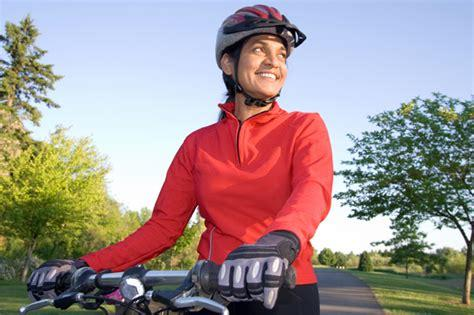With Helmet: (214, 3, 308, 103)
